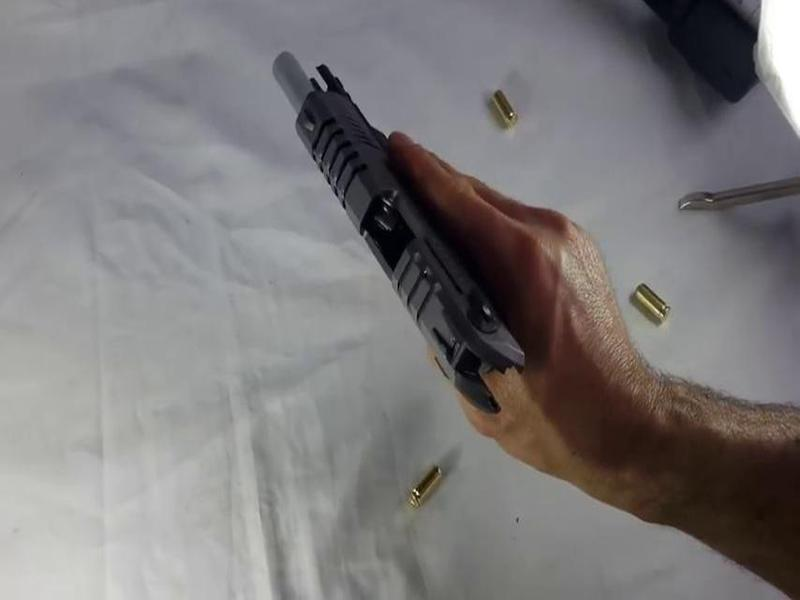Pistola: (211, 41, 531, 447)
